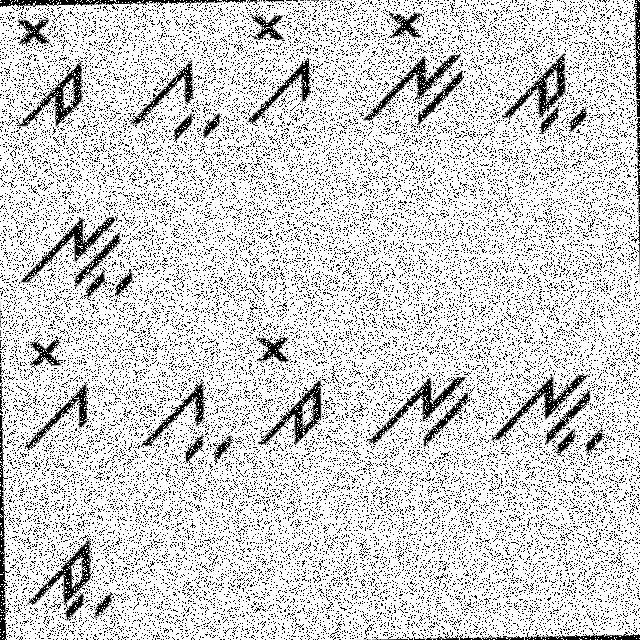gah: (124, 378, 236, 468), (127, 52, 222, 154)
go: (239, 8, 320, 132), (15, 328, 94, 451)
nga: (369, 360, 472, 458)
ngah: (487, 342, 604, 468), (13, 202, 136, 308)
ngo: (362, 5, 472, 134)
tah: (492, 43, 591, 144), (24, 524, 118, 626)
to: (2, 12, 88, 132), (248, 330, 328, 458)
